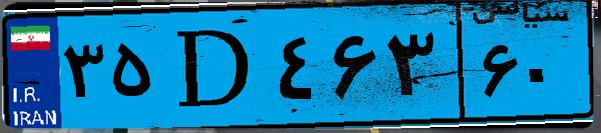0: (525, 38, 570, 115)
3: (385, 28, 445, 110), (57, 26, 110, 100)
4: (270, 28, 330, 110)
5: (110, 28, 158, 98)
6: (330, 28, 385, 110), (475, 38, 525, 113)
D: (158, 12, 270, 120)
